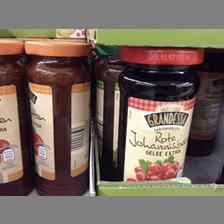Marmelade: (115, 45, 205, 182), (24, 38, 92, 194), (0, 37, 23, 195)
